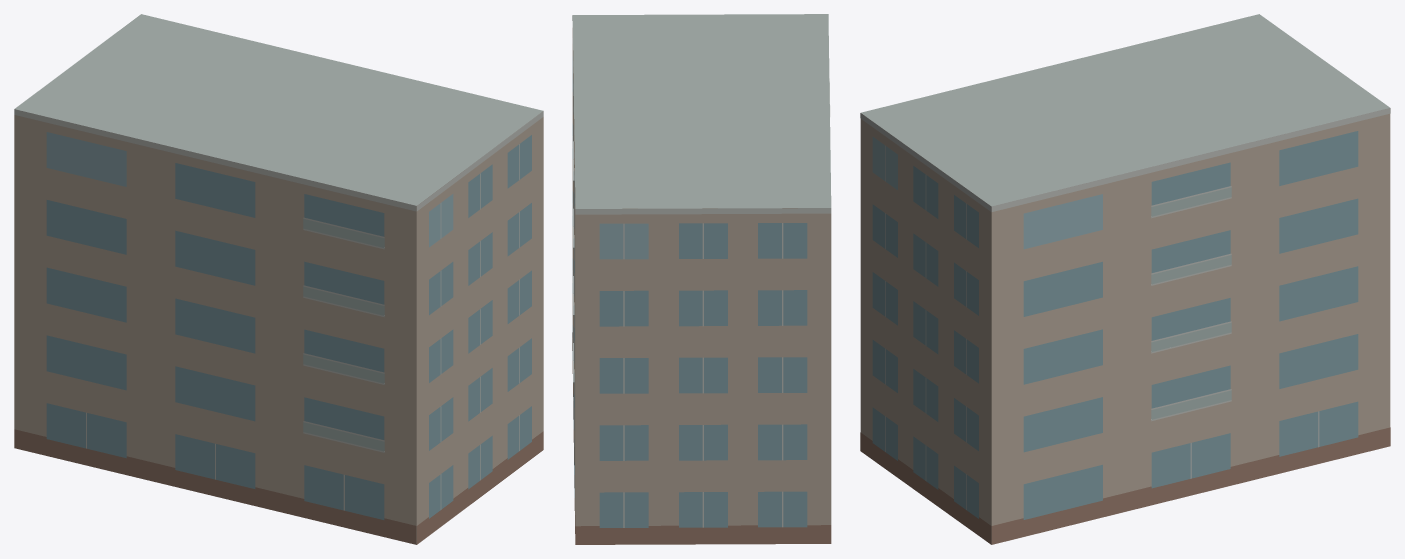
The model's file is survey-upis-32712548.glb.
The picture shows the model from 3 angles, left to right: view 1: azimuth 30°, elevation 25°; view 2: azimuth 150°, elevation 25°; view 3: azimuth 270°, elevation 25°; orthographic projection.
Parts seen in each view (by area): view 1: survey-upis-32712548.tmp; view 2: survey-upis-32712548.tmp; view 3: survey-upis-32712548.tmp.
Part boxes in pixels (x1,y1,x2,y2): survey-upis-32712548.tmp: (14, 14, 543, 544); survey-upis-32712548.tmp: (572, 14, 831, 544); survey-upis-32712548.tmp: (860, 14, 1390, 544).
Bounding box in the file's own units: 17.58 × 14.4 × 20.45.
